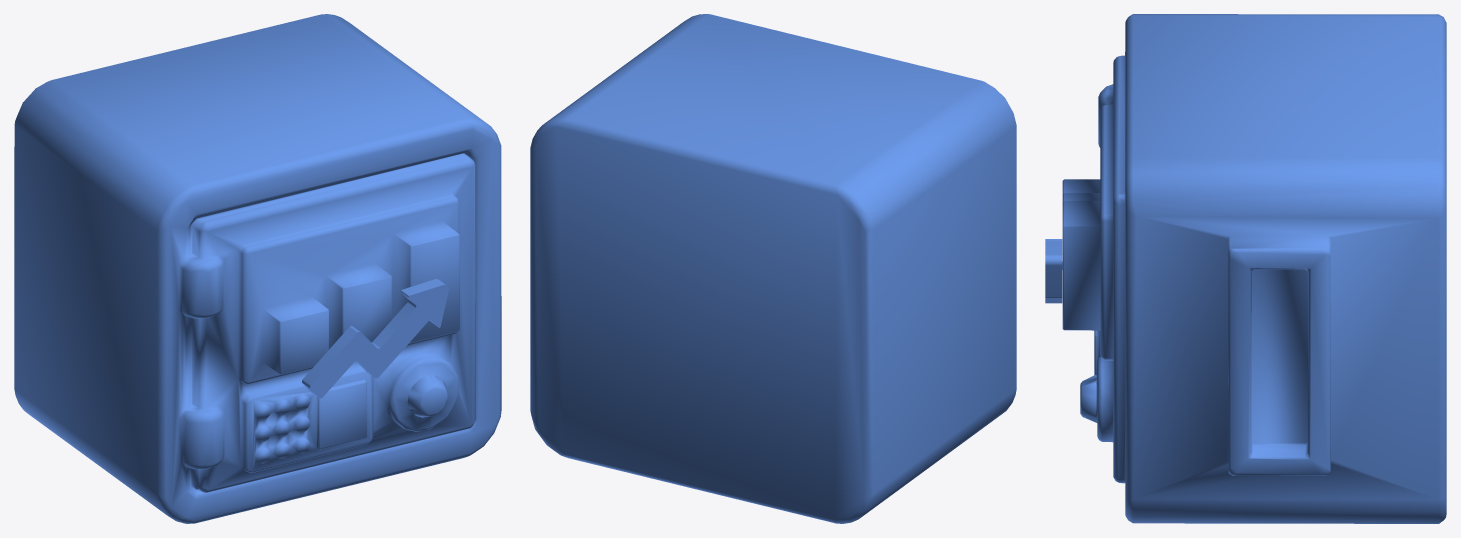
File: CoinLocker.fbx
3 renders of one model, left to right at view 1: azimuth 30°, elevation 25°; view 2: azimuth 150°, elevation 25°; view 3: azimuth 270°, elevation 25°, orthographic. The views are drawn at different scales.
Parts seen in each view (by area): view 1: Locker.001; view 2: Locker.001; view 3: Locker.001.
Boxes of the visible parts, <box> form: Locker.001: <box>14,14,501,523</box>; Locker.001: <box>530,14,1016,523</box>; Locker.001: <box>1045,14,1446,523</box>.
Bounding box in the file's own units: 7.54 × 6.58 × 6.59.
